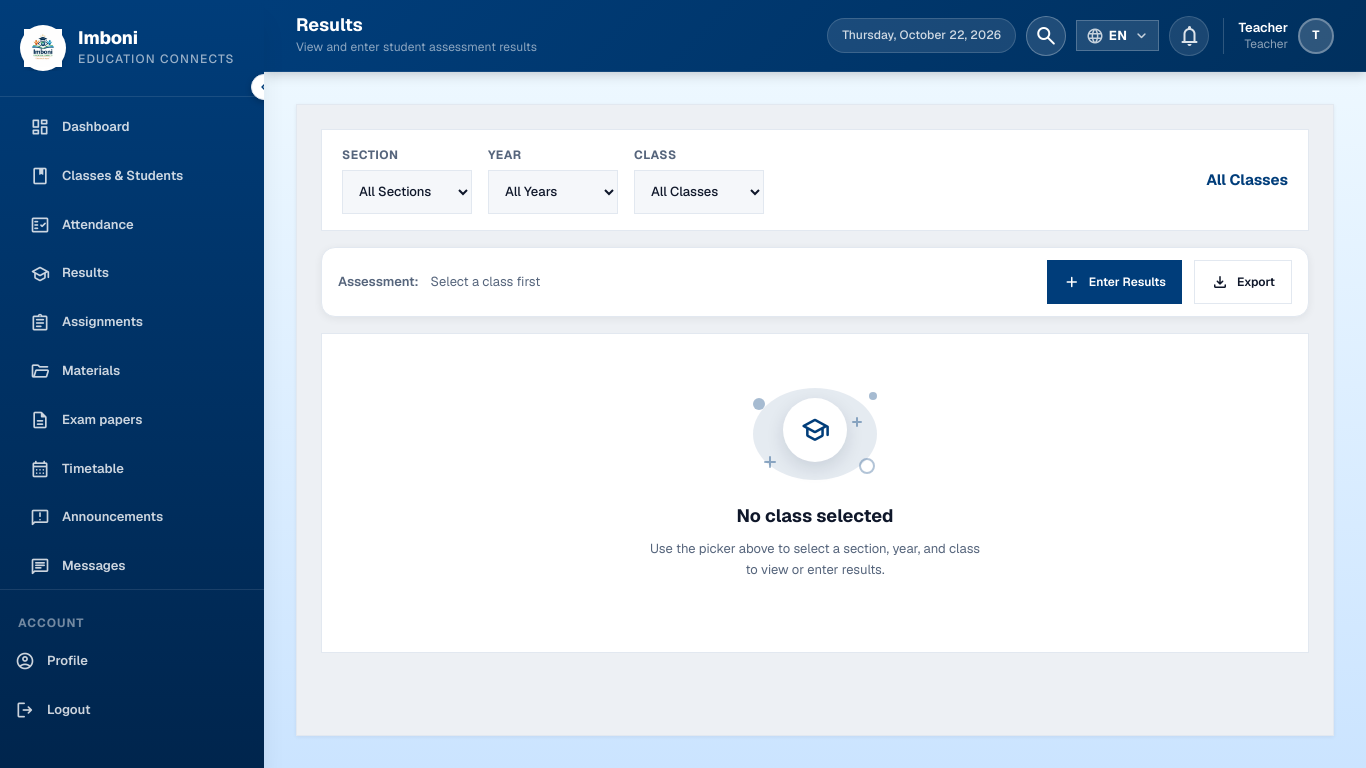
TeacherResults › entering marks › asks before throwing away typed marks, and not when nothing was typed
The width and height of the screenshot is (1366, 768).
Select "O-Level" in the dropdown labelled "Section" at (407, 192), box [342, 170, 472, 214]
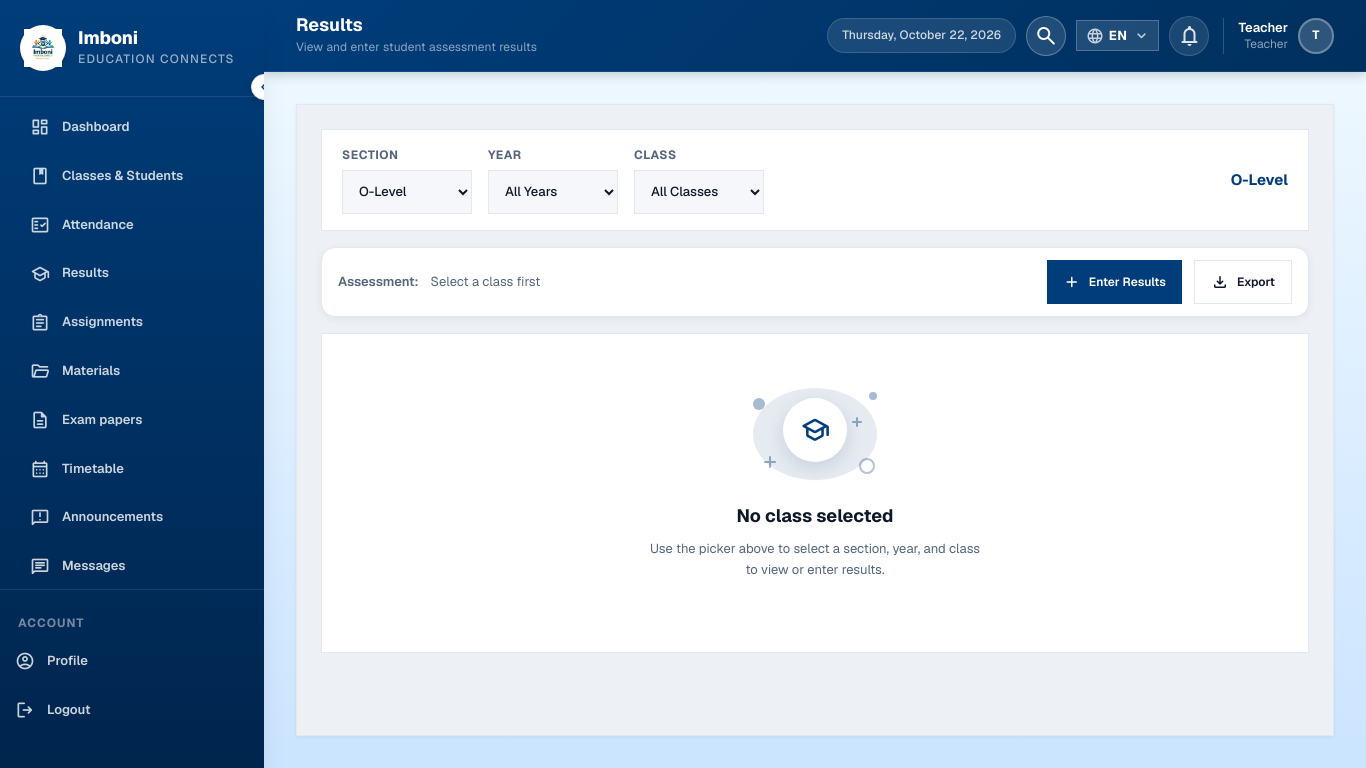
Select "S1" in the dropdown labelled "Year" at (553, 192), box [488, 170, 618, 214]
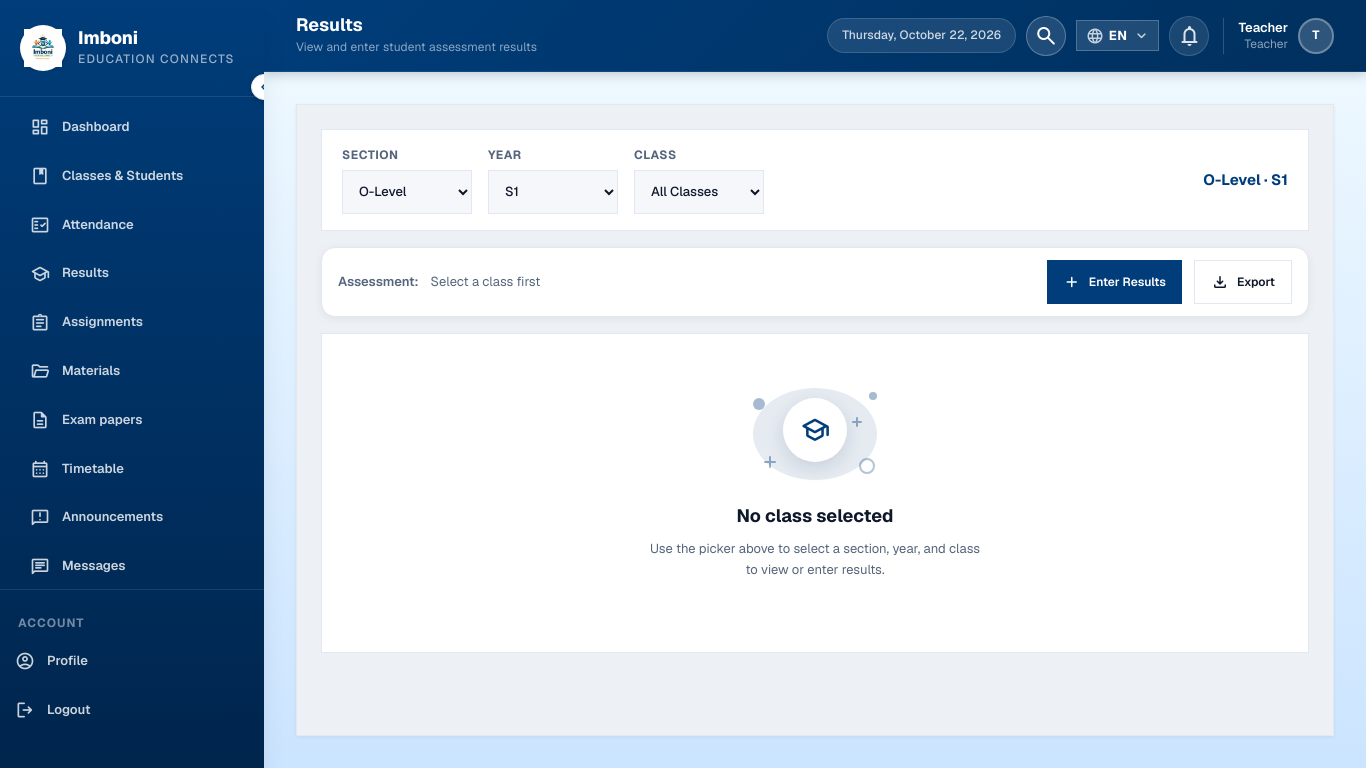
Select "A" in the dropdown labelled "Class" at (699, 192), box [634, 170, 764, 214]
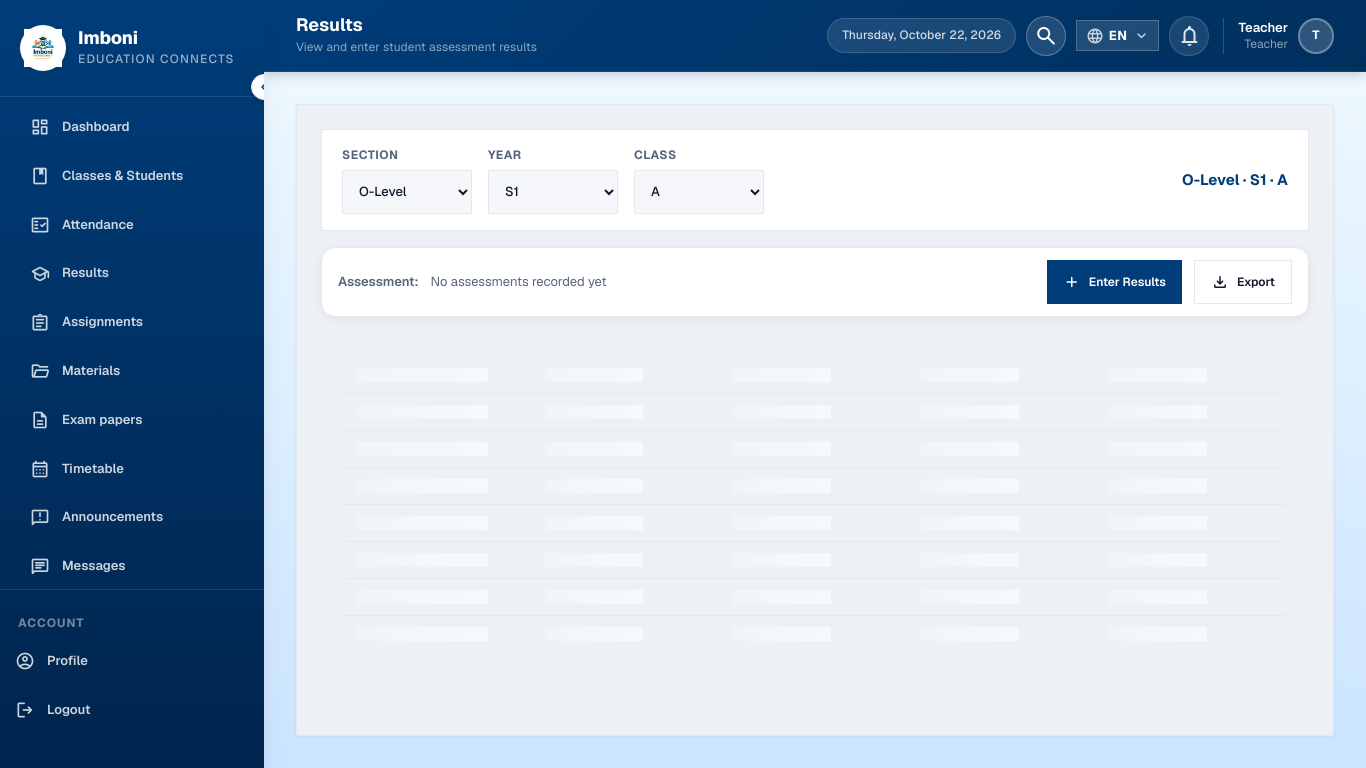
Click the button "Enter Results" at (1114, 282), box [1047, 260, 1182, 304]
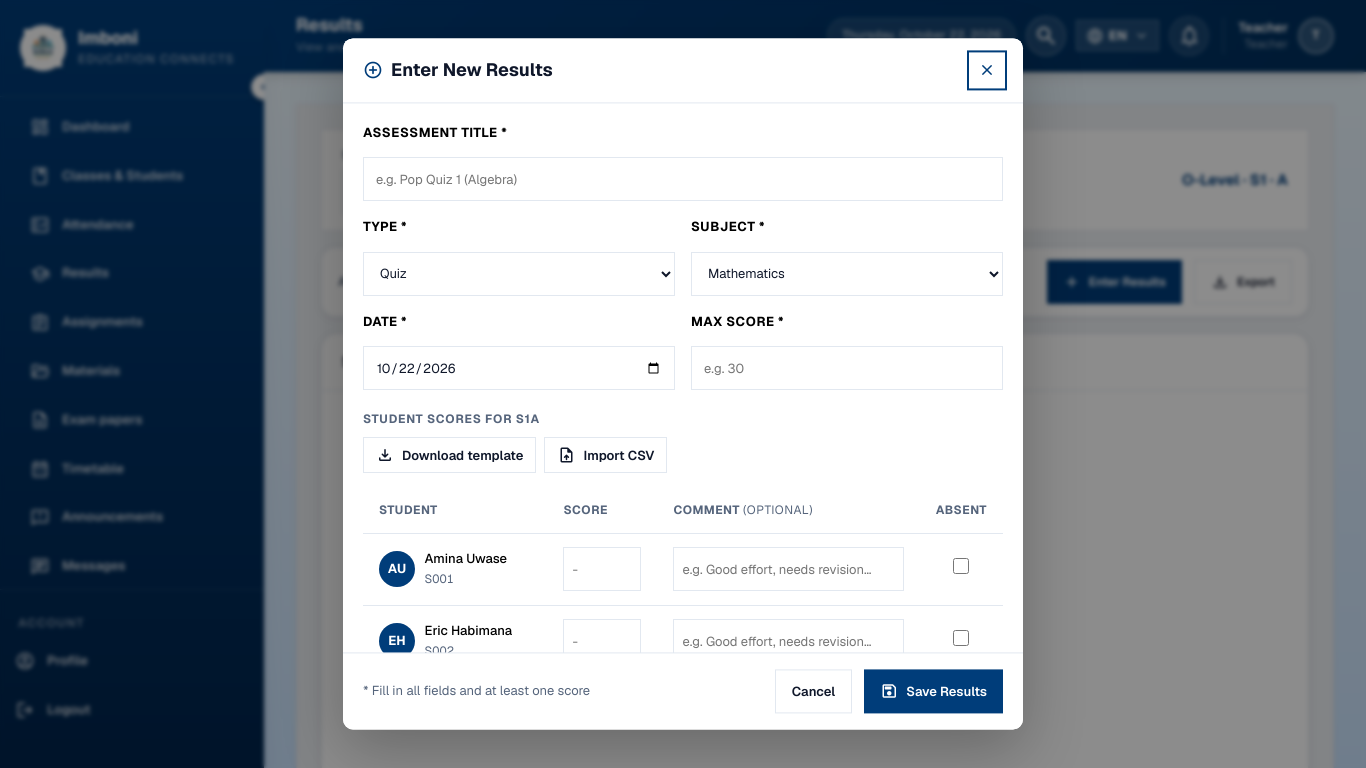
Result: the text "Amina Uwase" is shown at [425, 550, 507, 570]
Click the button "Cancel" at (814, 692), box [775, 670, 852, 714]
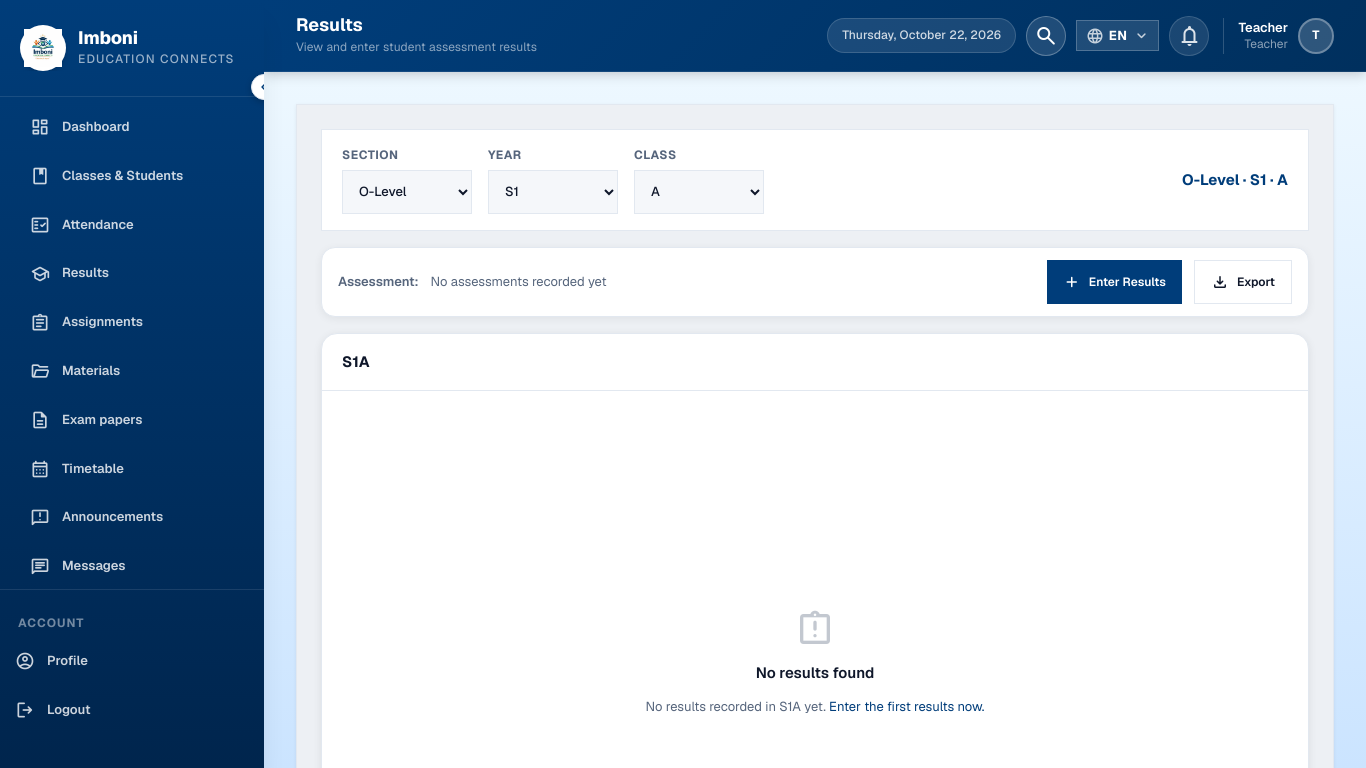
Result: the text "Amina Uwase" is gone
